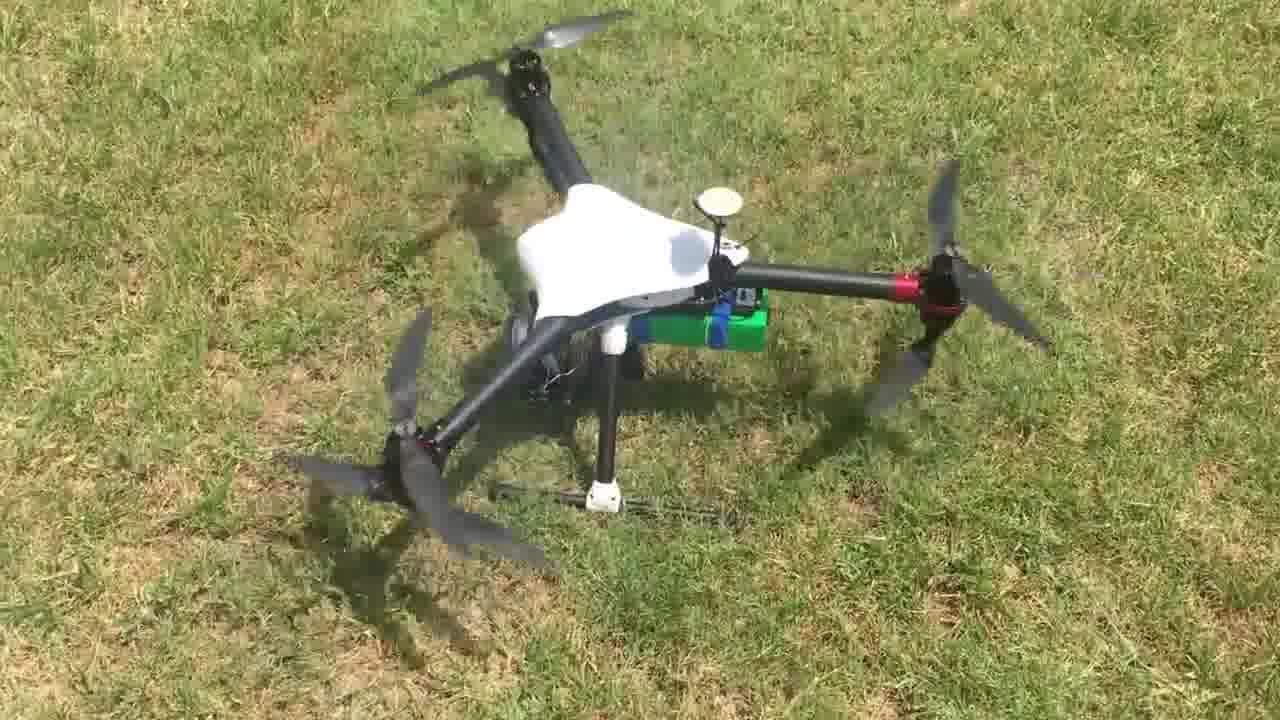drone: (313, 4, 905, 565)
